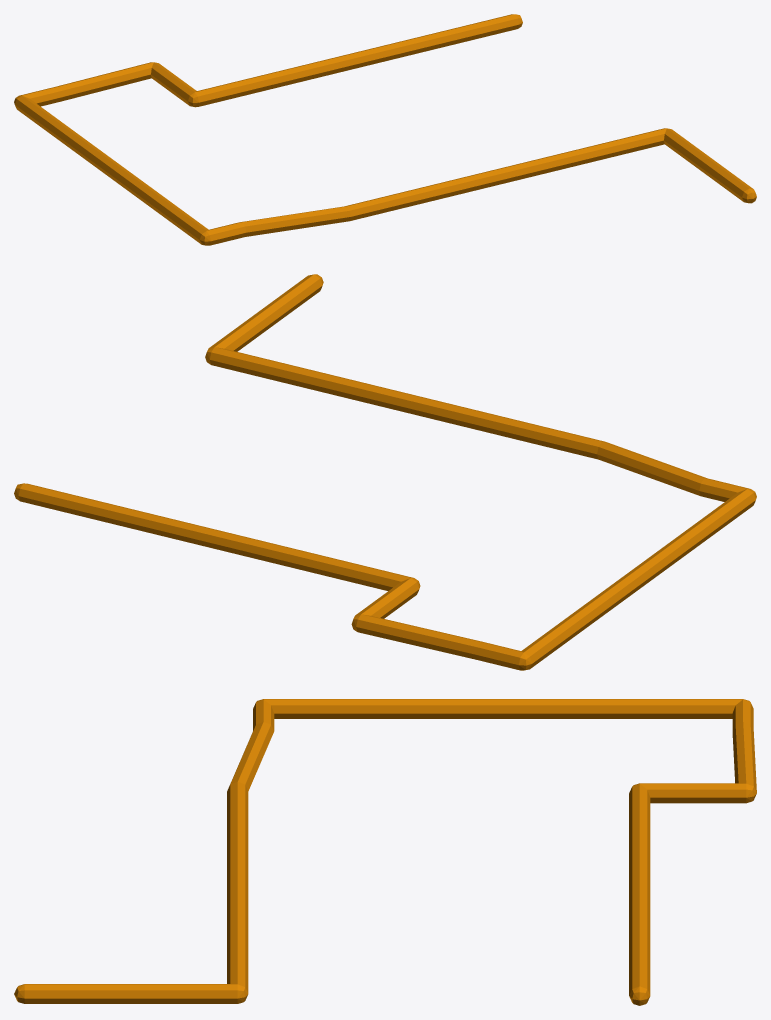
3 renders of one model, top to bottom at view 1: azimuth 30°, elevation 25°; view 2: azimuth 150°, elevation 25°; view 3: azimuth 270°, elevation 25°, orthographic. The views are drawn at different scales.
Size of the model in its own units: 657 by 20 by 697.
